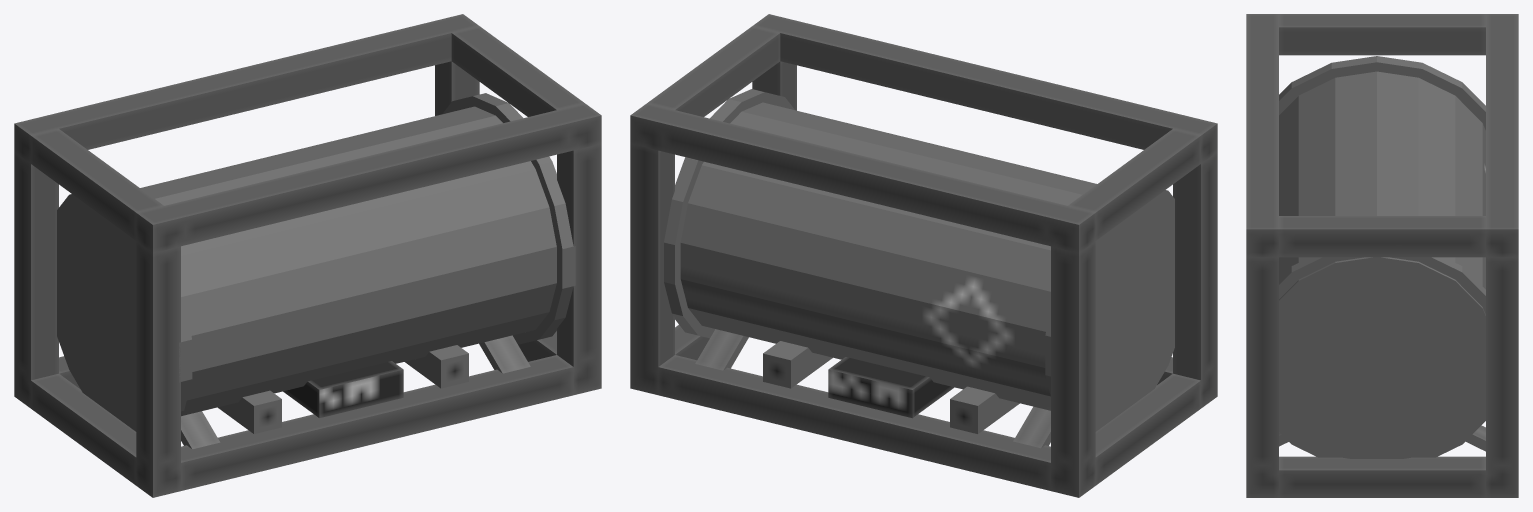
File: tank.obj
The picture shows the model from 3 angles, left to right: view 1: azimuth 30°, elevation 25°; view 2: azimuth 150°, elevation 25°; view 3: azimuth 270°, elevation 25°; orthographic projection.
Parts seen in each view (by area): view 1: cylinder; view 2: cylinder; view 3: cylinder.
Part boxes in pixels (bbox=[...]): cylinder: bbox=[14, 14, 601, 497]; cylinder: bbox=[630, 14, 1217, 497]; cylinder: bbox=[1246, 14, 1518, 497].
Size of the model in its own units: 5.38 by 3.12 by 2.88.
